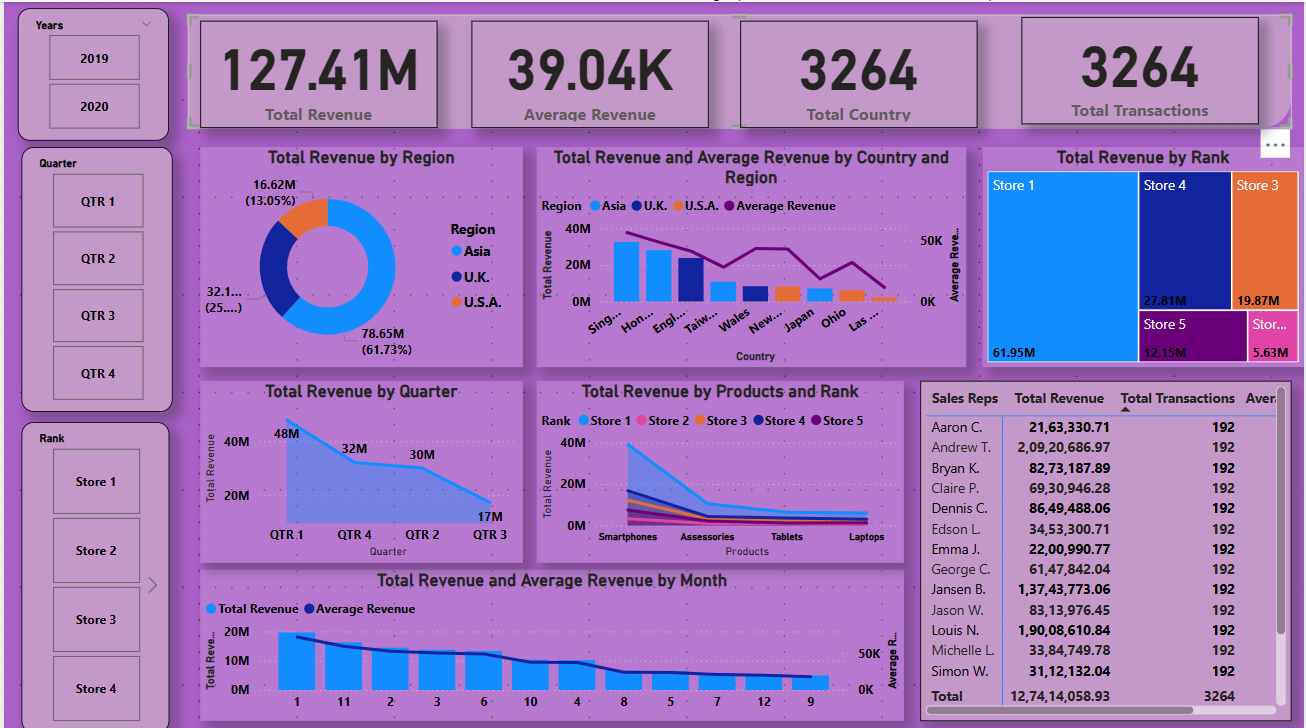

The dashboard page shown, as its layout file describes it:
{"tool":"powerbi","page":{"name":"Page 1","canvas":[1280,720],"ordinal":0},"visuals":[{"type":"shape","box":[180.9,12.5,1086.6,111.3],"z":0},{"type":"card","fields":{"Values":["Measures (2).Total Revenue"]},"box":[193.4,18.1,233.7,105.7],"z":1000},{"type":"card","fields":{"Values":["Measures (2).Average Revenue"]},"box":[460.5,18.1,233.7,105.7],"z":2000},{"type":"card","fields":{"Values":["Measures (2).Total Country"]},"box":[724.9,18.1,233.7,105.7],"z":3000},{"type":"card","fields":{"Values":["Measures (2).Total Transactions"]},"box":[1001.7,15.3,233.7,105.7],"z":4000},{"type":"donutChart","fields":{"Y":["Measures (2).Total Revenue"],"Category":["Sheet1.Region"]},"box":[193.4,143.3,317.2,217],"z":5000},{"type":"lineStackedColumnComboChart","fields":{"Category":["Sheet1.Country"],"Y":["Measures (2).Total Revenue"],"Y2":["Measures (2).Average Revenue"],"Series":["Sheet1.Region"]},"box":[524.5,143.3,423,217],"z":6000},{"type":"treemap","fields":{"Values":["Measures (2).Total Revenue"],"Group":["Sheet1.Rank"]},"box":[964.2,143.3,315.8,217],"z":7000},{"type":"areaChart","fields":{"Y":["Measures (2).Total Revenue"],"Category":["Sheet1.Quarter"]},"box":[193.4,372.9,317.2,179.5],"z":8000},{"type":"areaChart","fields":{"Y":["Measures (2).Total Revenue"],"Category":["Sheet1.Products"],"Series":["Sheet1.Rank"]},"box":[524.5,372.9,361.7,179.5],"z":9000},{"type":"pivotTable","fields":{"Values":["Measures (2).Total Revenue","Measures (2).Total Transactions","Measures (2).Average Revenue"],"Rows":["Sheet1.Sales Reps"]},"box":[901.6,372.9,365.9,335.3],"z":10000},{"type":"lineStackedColumnComboChart","fields":{"Y":["Measures (2).Total Revenue"],"Y2":["Measures (2).Average Revenue"],"Category":["Sheet1.Month"]},"box":[193.4,559.3,692.9,148.9],"z":11000},{"type":"slicer","fields":{"Values":["Sheet1.Years"]},"box":[13.5,6.2,148.9,130.5],"z":12000},{"type":"slicer","fields":{"Values":["Sheet1.Quarter"]},"box":[17.2,142.8,148.9,260.9],"z":13000},{"type":"slicer","fields":{"Values":["Sheet1.Rank"]},"box":[17.2,413.5,145.2,306.5],"z":14000}]}

Visuals, with their boxes in screenshot pixels (x1, y1, x2, y2), scaled from the page's 1280x720 canvas onto the 1306x728 screenshot:
shape: crop(185, 13, 1293, 125)
card - Measures (2).Total Revenue: crop(197, 18, 436, 125)
card - Measures (2).Average Revenue: crop(470, 18, 708, 125)
card - Measures (2).Total Country: crop(740, 18, 978, 125)
card - Measures (2).Total Transactions: crop(1022, 15, 1260, 122)
donutChart - Measures (2).Total Revenue x Sheet1.Region: crop(197, 145, 521, 364)
lineStackedColumnComboChart - Sheet1.Country x Measures (2).Total Revenue: crop(535, 145, 967, 364)
treemap - Measures (2).Total Revenue x Sheet1.Rank: crop(984, 145, 1305, 364)
areaChart - Measures (2).Total Revenue x Sheet1.Quarter: crop(197, 377, 521, 559)
areaChart - Measures (2).Total Revenue x Sheet1.Products: crop(535, 377, 904, 559)
pivotTable - Measures (2).Total Revenue x Measures (2).Total Transactions: crop(920, 377, 1293, 716)
lineStackedColumnComboChart - Measures (2).Total Revenue x Measures (2).Average Revenue: crop(197, 566, 904, 716)
slicer - Sheet1.Years: crop(14, 6, 166, 138)
slicer - Sheet1.Quarter: crop(18, 144, 169, 408)
slicer - Sheet1.Rank: crop(18, 418, 166, 727)
